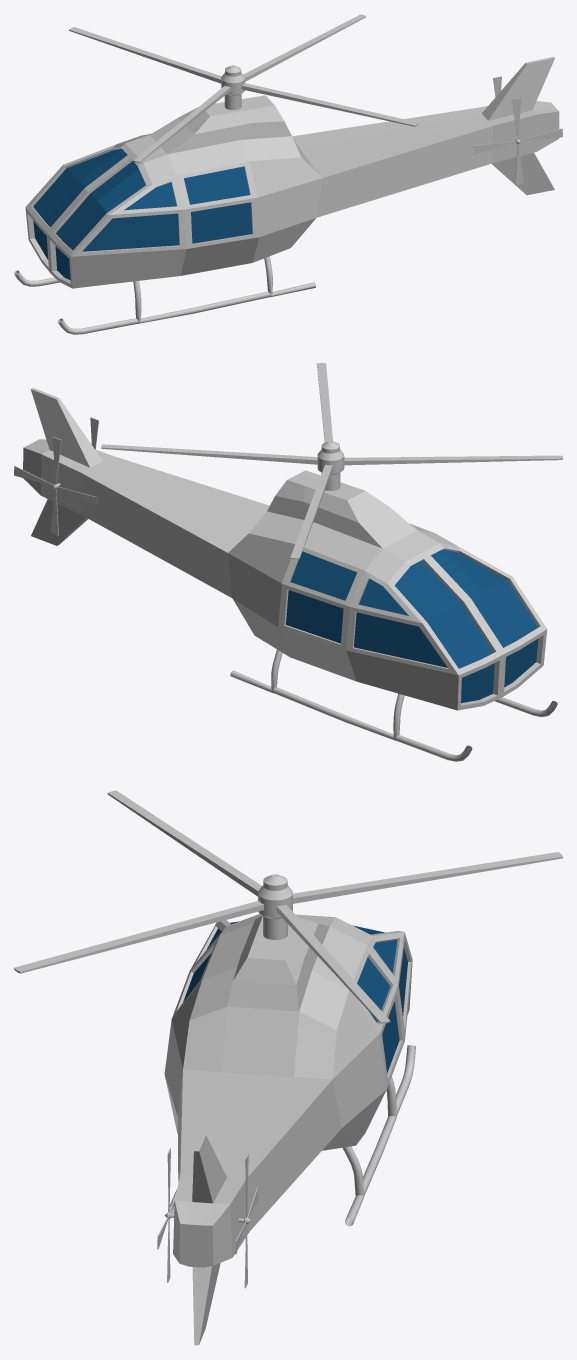
File: helicopter_animation_000198.obj
3 views of the same model, one above another, from view 1: azimuth 30°, elevation 25°; view 2: azimuth 150°, elevation 25°; view 3: azimuth 270°, elevation 25° (orthographic). The views are drawn at different scales.
Visible parts, largest first — view 1: Helicopter.007_Cylinder.008, Helicopter.001_Cylinder.001, Helicopter.003_Cylinder.004; view 2: Helicopter.007_Cylinder.008, Helicopter.001_Cylinder.001, Helicopter.004_Cylinder.005; view 3: Helicopter.007_Cylinder.008, Helicopter.001_Cylinder.001, Helicopter.004_Cylinder.005.
Part boxes in pixels (x1=…): Helicopter.007_Cylinder.008: x1=14, y1=57, x2=559, y2=334; Helicopter.001_Cylinder.001: x1=69, y1=14, x2=418, y2=162; Helicopter.003_Cylinder.004: x1=473, y1=97, x2=562, y2=185; Helicopter.007_Cylinder.008: x1=23, y1=388, x2=557, y2=761; Helicopter.001_Cylinder.001: x1=101, y1=363, x2=562, y2=559; Helicopter.004_Cylinder.005: x1=14, y1=437, x2=97, y2=535; Helicopter.007_Cylinder.008: x1=164, y1=914, x2=415, y2=1345; Helicopter.001_Cylinder.001: x1=14, y1=790, x2=562, y2=1023; Helicopter.004_Cylinder.005: x1=235, y1=1153, x2=258, y2=1288.
Size of the model in its own units: 7.55 by 3.2 by 5.02.
